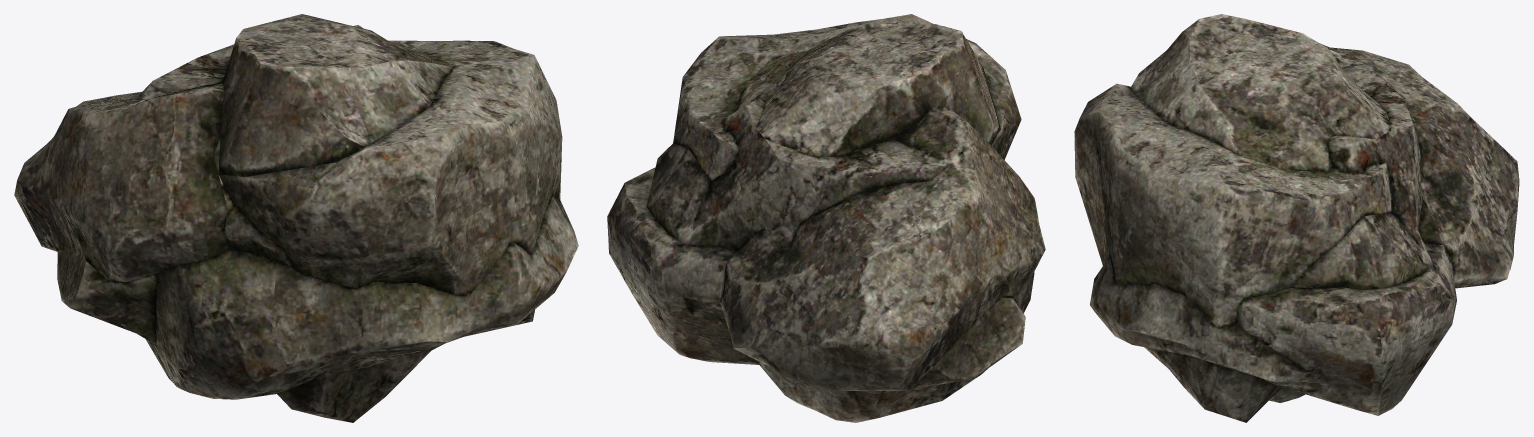
File: SM_Big_Rock_01_LOD3.fbx
The picture shows the model from 3 angles, left to right: view 1: azimuth 30°, elevation 25°; view 2: azimuth 150°, elevation 25°; view 3: azimuth 270°, elevation 25°; orthographic projection. The views are drawn at different scales.
Parts seen in each view (by area): view 1: SM_Big_Rock_01_LOD3; view 2: SM_Big_Rock_01_LOD3; view 3: SM_Big_Rock_01_LOD3.
Boxes of the visible parts, <box> form: SM_Big_Rock_01_LOD3: <box>14,14,578,422</box>; SM_Big_Rock_01_LOD3: <box>607,14,1045,422</box>; SM_Big_Rock_01_LOD3: <box>1074,14,1519,422</box>.
Size of the model in its own units: 736 by 603 by 718.
